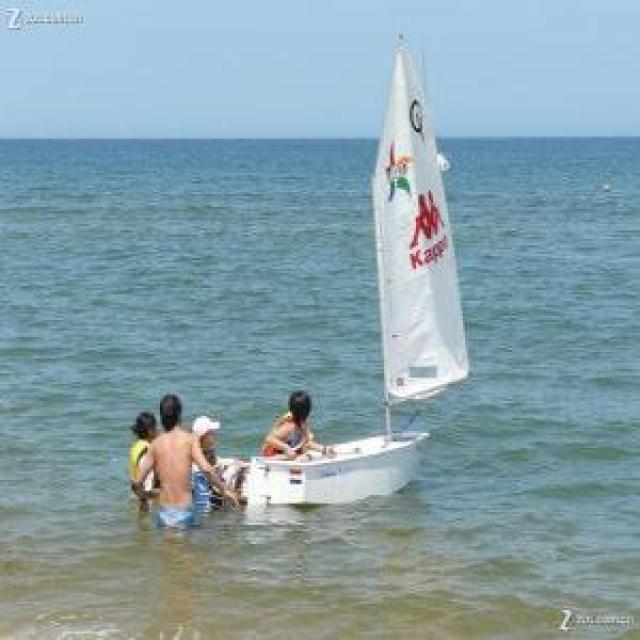sailboat: (243, 38, 476, 504)
